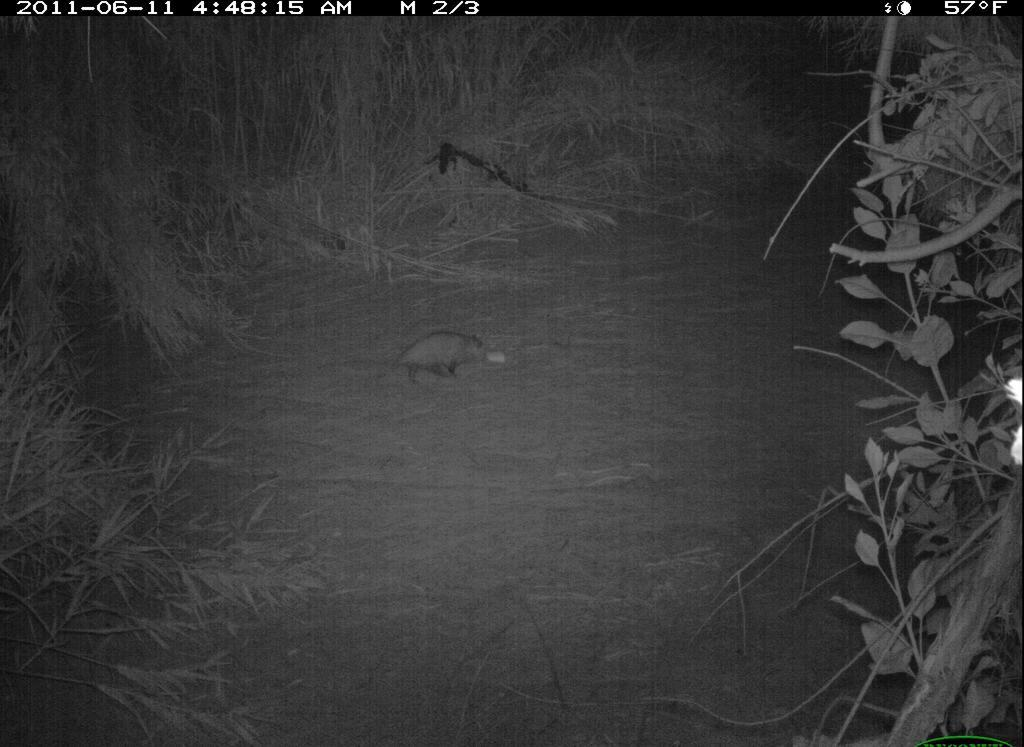opossum: (385, 315, 541, 413)
